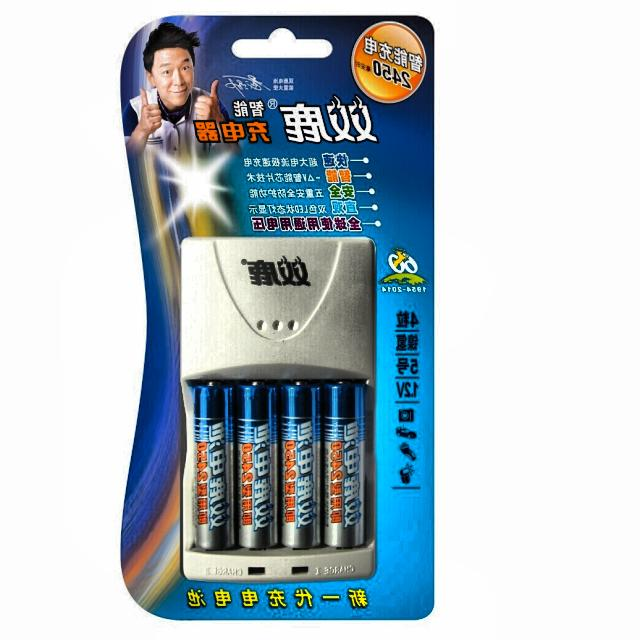Non-Valuable Waste - Batteries: (190, 381, 236, 549), (323, 382, 367, 548), (281, 382, 322, 548), (238, 382, 278, 548)
